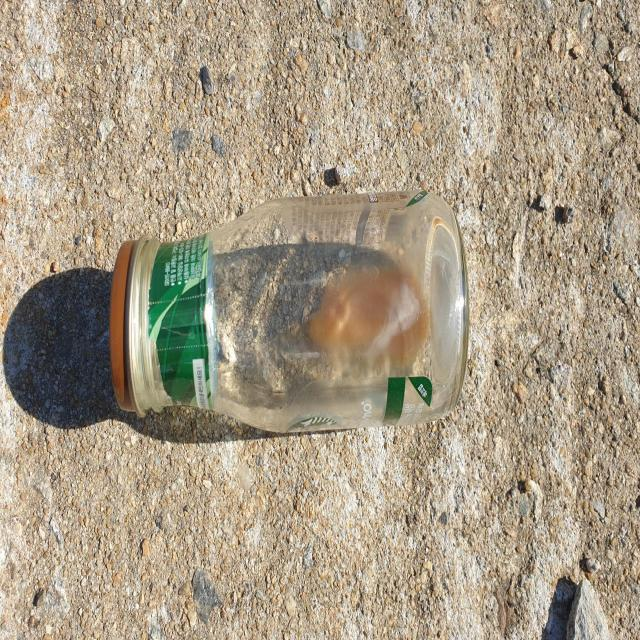glass: (110, 188, 469, 432)
